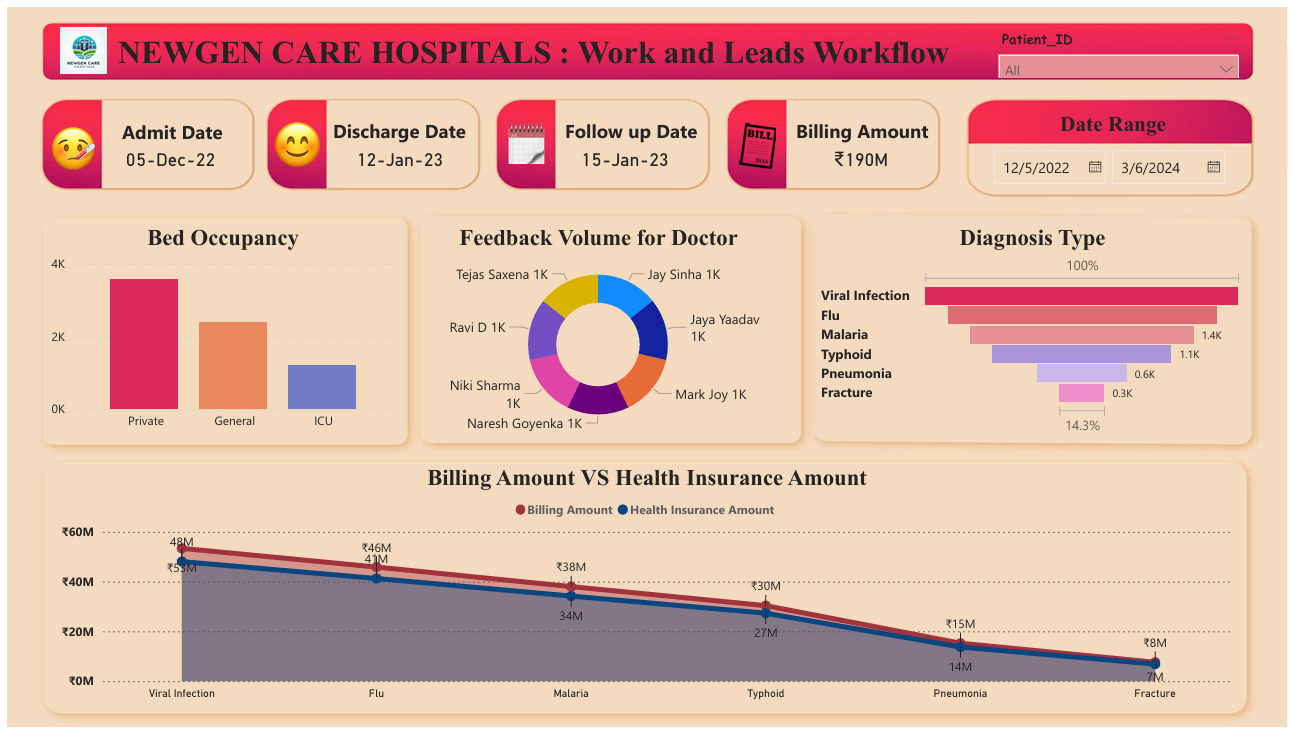

What the dashboard file says about the page in this screenshot:
{"tool":"powerbi","page":{"name":"Page 1","canvas":[1280,720],"ordinal":0},"visuals":[{"type":"textbox","box":[105.3,21.2,969.9,51.3],"z":0},{"type":"image","box":[47.7,14.6,57.7,57.7],"z":1000},{"type":"image","box":[37.4,111,56.7,59.1],"z":2000},{"type":"card","fields":{"Values":["Sheet1.Admit_Date"]},"box":[84.4,132.8,156.2,39.1],"z":3000},{"type":"slicer","fields":{"Values":["Sheet1.Patient_ID"]},"box":[981.2,15.6,259.4,54.7],"z":4000},{"type":"textbox","box":[109.4,106.2,137.5,51.6],"z":5000},{"type":"textbox","box":[320.3,104.7,162.5,39.1],"z":6000},{"type":"card","fields":{"Values":["Sheet1.Discharge_Date"]},"box":[314.1,132.8,156.2,39.1],"z":7000},{"type":"textbox","box":[551.6,104.7,164.1,39.1],"z":8000},{"type":"card","fields":{"Values":["Sheet1.Followup Date"]},"box":[539.1,132.8,156.2,39.1],"z":9000},{"type":"textbox","box":[782.8,104.7,164.1,39.1],"z":10000},{"type":"card","fields":{"Values":["Sheet1.Billing Amount"]},"box":[782.8,132.8,140.6,39.1],"z":11000},{"type":"slicer","fields":{"Values":["Sheet1.Admit_Date"]},"box":[973.4,131.6,286.1,55.7],"z":12000},{"type":"columnChart","title":"Bed Occupancy","fields":{"Category":["Sheet1.Bed_Occupancy"],"Y":["Sheet1.Bed_Occupancy"]},"box":[37.5,217.2,354.7,214.1],"z":13000},{"type":"donutChart","title":"Feedback Volume for Doctor","fields":{"Category":["Sheet1.Doctor"],"Y":["Sheet1.Doctor"]},"box":[373.4,217.2,434.4,214.1],"z":14000},{"type":"funnel","title":"Diagnosis Type","fields":{"Category":["Sheet1.Diagnosis"],"Y":["Sheet1.Diagnosis"]},"box":[807.8,217.2,432.8,214.1],"z":15000},{"type":"lineChart","title":"Billing Amount VS Health Insurance Amount","fields":{"Y":["Sheet1.Billing Amount","Sheet1.Health Insurance Amount"],"Category":["Sheet1.Diagnosis"]},"box":[48.1,457,1182.3,243],"z":16000},{"type":"textbox","box":[1046.8,98.7,187.3,39.2],"z":17000},{"type":"image","box":[258.2,107.4,62.7,59.1],"z":17001},{"type":"image","box":[493.4,108.6,50.7,54.3],"z":17002},{"type":"image","box":[719,111,62.7,55.5],"z":17003}]}

Visuals, with their boxes in screenshot pixels (x1, y1, x2, y2), scaled from the page's 1280x720 canvas onto the 1292x733 screenshot:
textbox: (106,22,1085,74)
image: (48,15,106,74)
image: (38,113,95,173)
card - Sheet1.Admit_Date: (85,135,243,175)
slicer - Sheet1.Patient_ID: (990,16,1252,72)
textbox: (110,108,249,161)
textbox: (323,107,487,146)
card - Sheet1.Discharge_Date: (317,135,475,175)
textbox: (557,107,722,146)
card - Sheet1.Followup Date: (544,135,702,175)
textbox: (790,107,956,146)
card - Sheet1.Billing Amount: (790,135,932,175)
slicer - Sheet1.Admit_Date: (983,134,1271,191)
"Bed Occupancy" columnChart: (38,221,396,439)
"Feedback Volume for Doctor" donutChart: (377,221,815,439)
"Diagnosis Type" funnel: (815,221,1252,439)
"Billing Amount VS Health Insurance Amount" lineChart: (49,465,1242,713)
textbox: (1057,100,1246,140)
image: (261,109,324,170)
image: (498,111,549,166)
image: (726,113,789,170)
